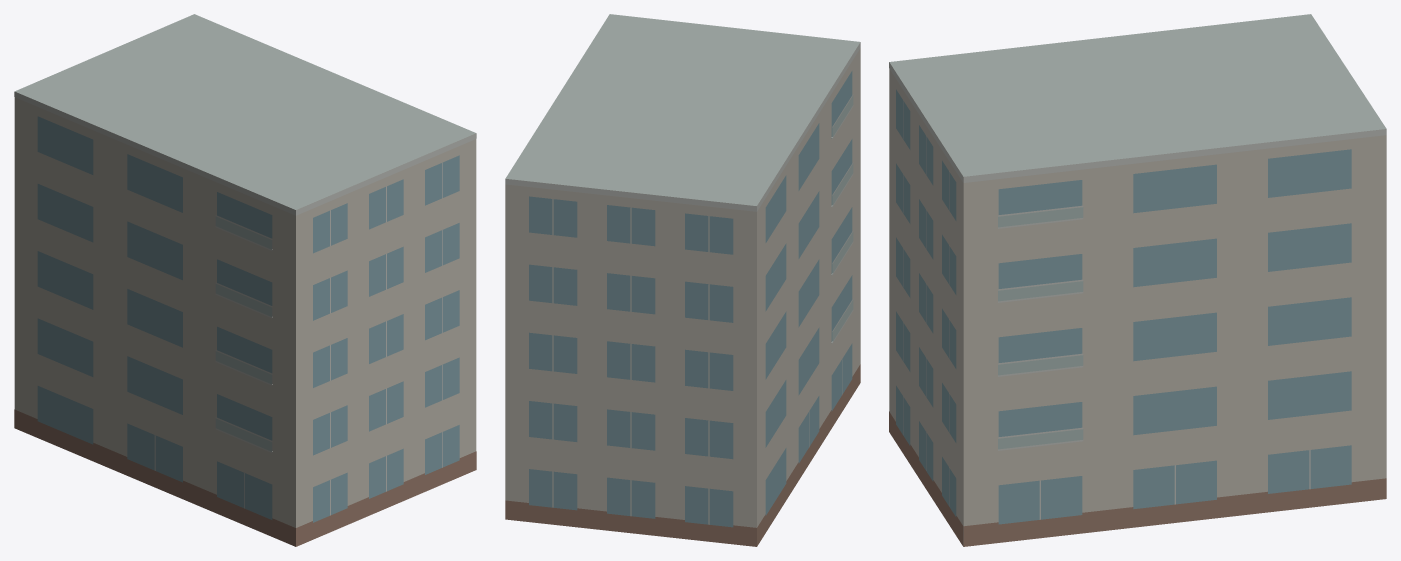
The model's file is survey-upis-32712943.glb.
The picture shows the model from 3 angles, left to right: view 1: azimuth 30°, elevation 25°; view 2: azimuth 150°, elevation 25°; view 3: azimuth 270°, elevation 25°; orthographic projection. The views are drawn at different scales.
Parts seen in each view (by area): view 1: survey-upis-32712943.tmp; view 2: survey-upis-32712943.tmp; view 3: survey-upis-32712943.tmp.
Part boxes in pixels (x1,y1,x2,y2): survey-upis-32712943.tmp: (14,14,476,546); survey-upis-32712943.tmp: (505,14,860,546); survey-upis-32712943.tmp: (889,14,1386,546).
Size of the model in its own units: 13.7 by 14.5 by 17.68.
